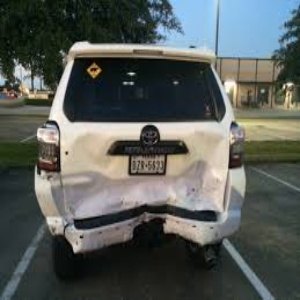bumper: (105, 203, 187, 248)
